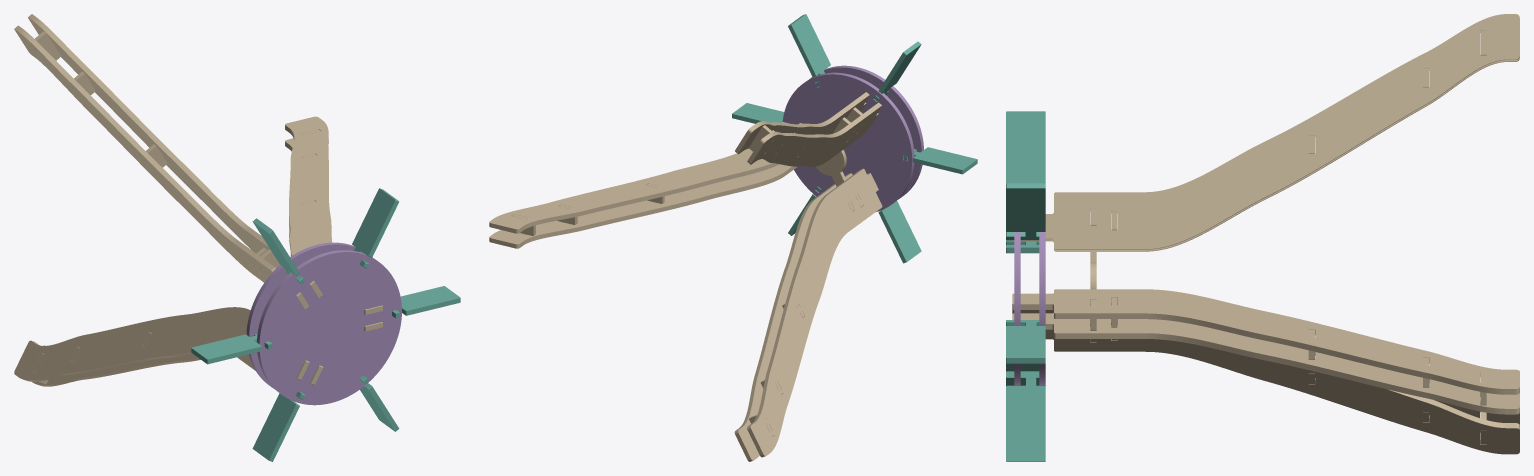
Rendered from B-proposed-27-CR_REQUIRED.glb.
3 renders of one model, left to right at view 1: azimuth 30°, elevation 25°; view 2: azimuth 150°, elevation 25°; view 3: azimuth 270°, elevation 25°, orthographic. The views are drawn at different scales.
Parts seen in each view (by area): view 1: P04U, L3_P01_1, L1_P01_2, L2_P01_2, L2_P01_1, P04L, P05_2, P05_5, L3_P01_2, P05_4, P05_1, P05_3 (+1 smaller); view 2: L3_P01_1, P04L, L1_P01_2, L1_P01_1, L2_P01_2, L3_P01_2, P04U, L2_P01_1, P05_2, P05_5, P05_4, P03 (+2 smaller); view 3: L2_P01_1, L1_P01_2, L3_P01_2, L1_P01_1, P05_6, P05_3, P05_2, P05_1, L2_P01_2, P04L, P04U, L3_P01_1 (+1 smaller).
Boxes of the visible parts, box(x1,y1,x2,y2) form: P04U: box(257, 250, 401, 405); L3_P01_1: box(14, 307, 309, 381); L1_P01_2: box(285, 116, 382, 314); L2_P01_2: box(14, 25, 309, 309); L2_P01_1: box(28, 14, 322, 298); P04L: box(246, 242, 363, 389); P05_2: box(352, 188, 399, 268); P05_5: box(252, 391, 305, 461); L3_P01_2: box(32, 345, 323, 386); P05_4: box(191, 334, 272, 364); P05_1: box(392, 286, 460, 318); P05_3: box(252, 218, 304, 284); L3_P01_1: box(747, 168, 882, 457); P04L: box(782, 72, 914, 211); L1_P01_2: box(489, 122, 803, 233); L1_P01_1: box(489, 164, 797, 248); L2_P01_2: box(747, 102, 882, 166); L3_P01_2: box(734, 173, 852, 461); P04U: box(810, 65, 923, 199); L2_P01_1: box(735, 92, 869, 154); P05_2: box(788, 14, 830, 86); P05_5: box(878, 201, 921, 263); P05_4: box(903, 147, 977, 174); P03: box(816, 107, 863, 207); L2_P01_1: box(1045, 14, 1519, 249); L1_P01_2: box(1012, 289, 1519, 394); L3_P01_2: box(1045, 323, 1519, 454); L1_P01_1: box(1012, 313, 1519, 414); P05_6: box(1006, 371, 1045, 461); P05_3: box(1006, 111, 1045, 183); P05_2: box(1006, 183, 1045, 240); P05_1: box(1006, 320, 1045, 363); L2_P01_2: box(1012, 31, 1519, 251); P04L: box(1039, 232, 1045, 385); P04U: box(1014, 232, 1020, 385); L3_P01_1: box(1012, 303, 1519, 432).
Bounding box in the file's own units: 0.431 × 0.4673 × 0.494.
